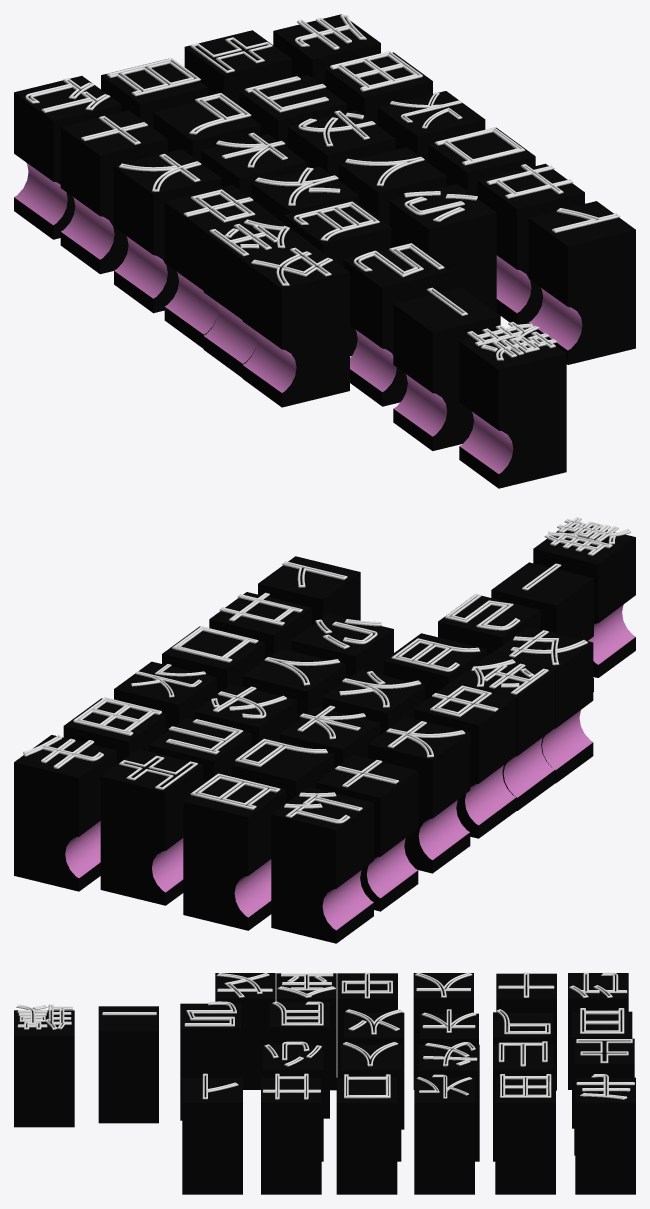
Rendered from Chinese.fbx.
3 views of the same model, one above another, from view 1: azimuth 30°, elevation 25°; view 2: azimuth 150°, elevation 25°; view 3: azimuth 270°, elevation 25° (orthographic). The views are drawn at different scales.
Parts seen in each view (by area): view 1: ABCWord039, ABCWord057, ABCWord044, ABCWord050, ABCWord042, ABCWord037, ABCWord043, ABCWord048, ABCWord051, ABCWord058, ABCWord049, ABCWord056 (+34 smaller); view 2: ABCWord048, ABCWord041, ABCWord038, ABCWord062, ABCWord037, ABCWord049, ABCWord042, ABCWord044, ABCWord039, ABCWord056, ABCWord050, ABCWord057 (+34 smaller); view 3: ABCWord050, ABCWord057, ABCWord059, ABCWord060, ABCWord058, ABCWord062, ABCWord061, ABCWord044, ABCWord043, ABCWord039, ABCWord040, ABCWord037 (+35 smaller).
Boxes of the visible parts, box(x1,y1,x2,y2) form: ABCWord039: box(242, 243, 349, 407); ABCWord057: box(528, 201, 635, 364); ABCWord044: box(459, 328, 566, 488); ABCWord050: box(393, 287, 500, 450); ABCWord042: box(60, 110, 167, 274); ABCWord037: box(114, 149, 221, 313); ABCWord043: box(343, 243, 450, 406); ABCWord048: box(14, 76, 121, 239); ABCWord051: box(389, 184, 496, 312); ABCWord058: box(477, 163, 584, 324); ABCWord049: box(164, 185, 271, 348); ABCWord056: box(203, 214, 310, 377); ABCWord048: box(271, 787, 373, 943); ABCWord041: box(183, 775, 285, 930); ABCWord038: box(100, 749, 203, 905); ABCWord062: box(14, 735, 116, 891); ABCWord037: box(367, 716, 470, 873); ABCWord049: box(413, 682, 516, 838); ABCWord042: box(315, 754, 418, 911); ABCWord044: box(533, 523, 635, 677); ABCWord039: box(491, 626, 593, 783); ABCWord056: box(452, 654, 554, 810); ABCWord050: box(491, 562, 593, 691); ABCWord057: box(258, 556, 360, 624); ABCWord050: box(98, 1006, 158, 1123); ABCWord057: box(182, 1077, 242, 1194); ABCWord059: box(336, 1077, 397, 1194); ABCWord060: box(414, 1077, 474, 1194); ABCWord058: box(261, 1077, 321, 1194); ABCWord062: box(575, 1077, 635, 1194); ABCWord061: box(495, 1077, 555, 1194); ABCWord044: box(14, 1010, 74, 1127); ABCWord043: box(180, 1003, 240, 1120); ABCWord039: box(215, 973, 275, 1089); ABCWord040: box(269, 1001, 329, 1118); ABCWord037: box(413, 973, 473, 1089).
Size of the model in its own units: 18.86 by 6.9 by 39.64.
